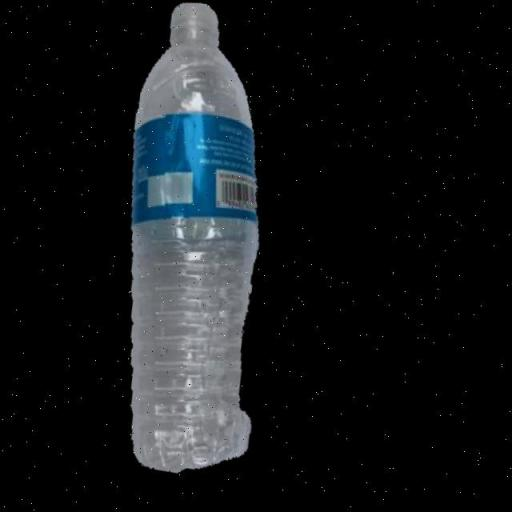plastic: (76, 1, 317, 485)
